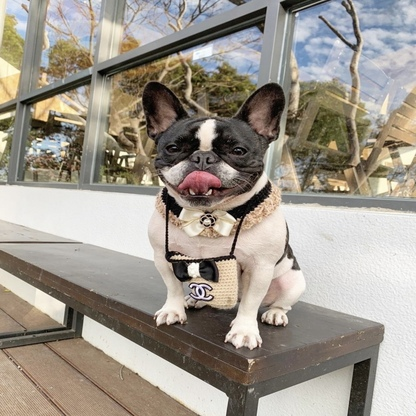bulldog: (139, 79, 308, 352)
